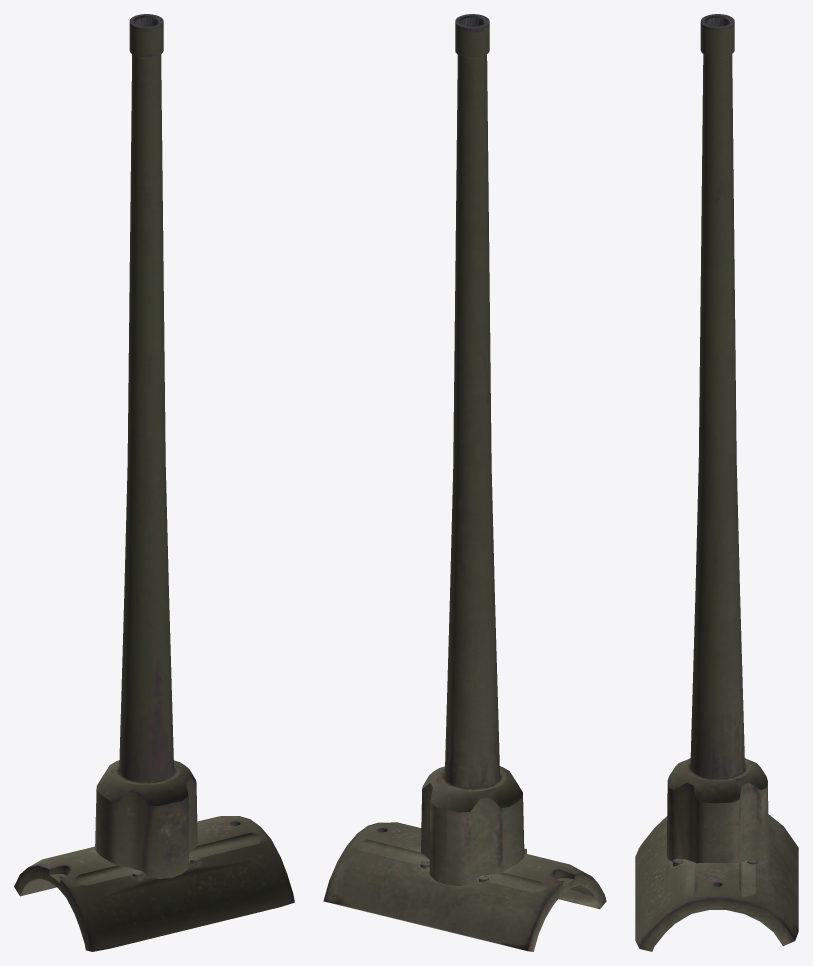
File: Gun_03.glb
3 views of the same model, side by side, from view 1: azimuth 30°, elevation 25°; view 2: azimuth 150°, elevation 25°; view 3: azimuth 270°, elevation 25° (orthographic).
Parts seen in each view (by area): view 1: set_0_group_0; view 2: set_0_group_0; view 3: set_0_group_0.
Boxes of the visible parts, left/top/right/bottom form: set_0_group_0: left=14, top=14, right=294, bottom=951; set_0_group_0: left=323, top=14, right=606, bottom=951; set_0_group_0: left=635, top=14, right=798, bottom=951.
Bounding box in the file's own units: 0.8204 × 3.41 × 0.5763.
1 material, 1 textured.
